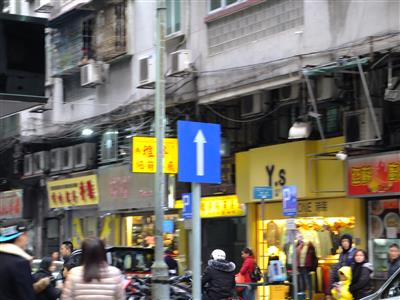oneway: (172, 113, 227, 188)
